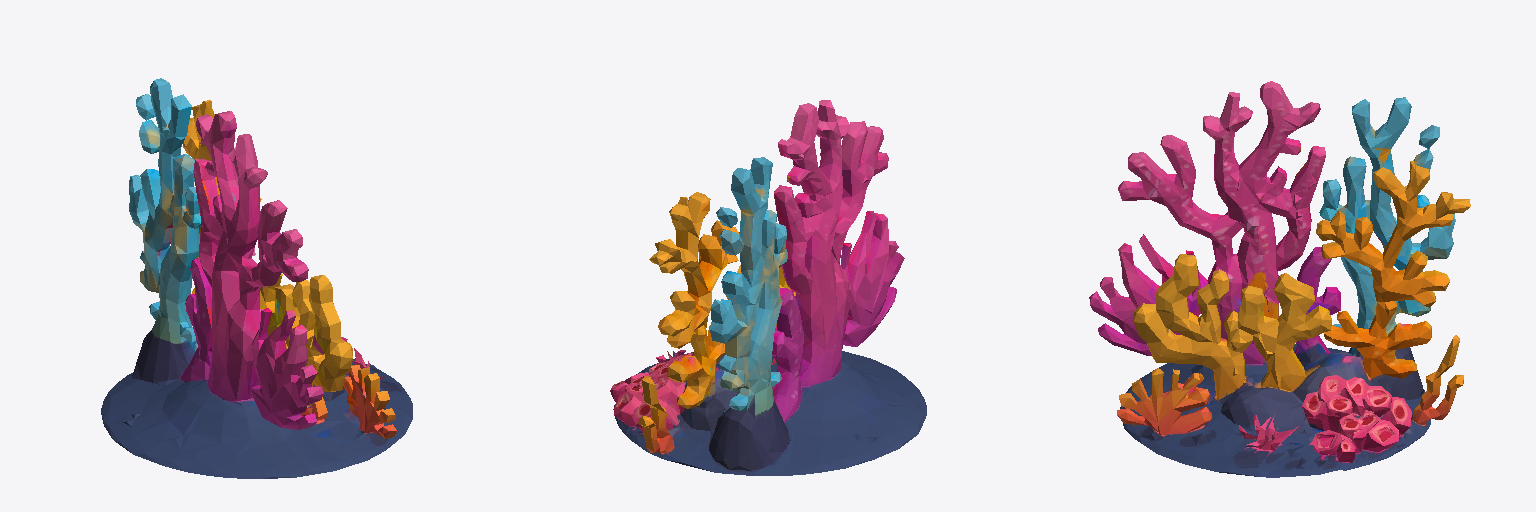
The picture shows the model from 3 angles: view 1: azimuth 30°, elevation 25°; view 2: azimuth 150°, elevation 25°; view 3: azimuth 270°, elevation 25°; orthographic projection.
Parts seen in each view (by area): view 1: tripo_node_32becd41-34a0-453d-9076-f3caae2027d6; view 2: tripo_node_32becd41-34a0-453d-9076-f3caae2027d6; view 3: tripo_node_32becd41-34a0-453d-9076-f3caae2027d6.
Boxes of the visible parts, box(x1,y1,x2,y2) form: tripo_node_32becd41-34a0-453d-9076-f3caae2027d6: box(101, 78, 412, 478); tripo_node_32becd41-34a0-453d-9076-f3caae2027d6: box(610, 100, 926, 475); tripo_node_32becd41-34a0-453d-9076-f3caae2027d6: box(1089, 81, 1470, 477).
Bounding box in the file's own units: 0.8273 × 0.9033 × 0.9994.
Materials: 1 (1 with a texture image).